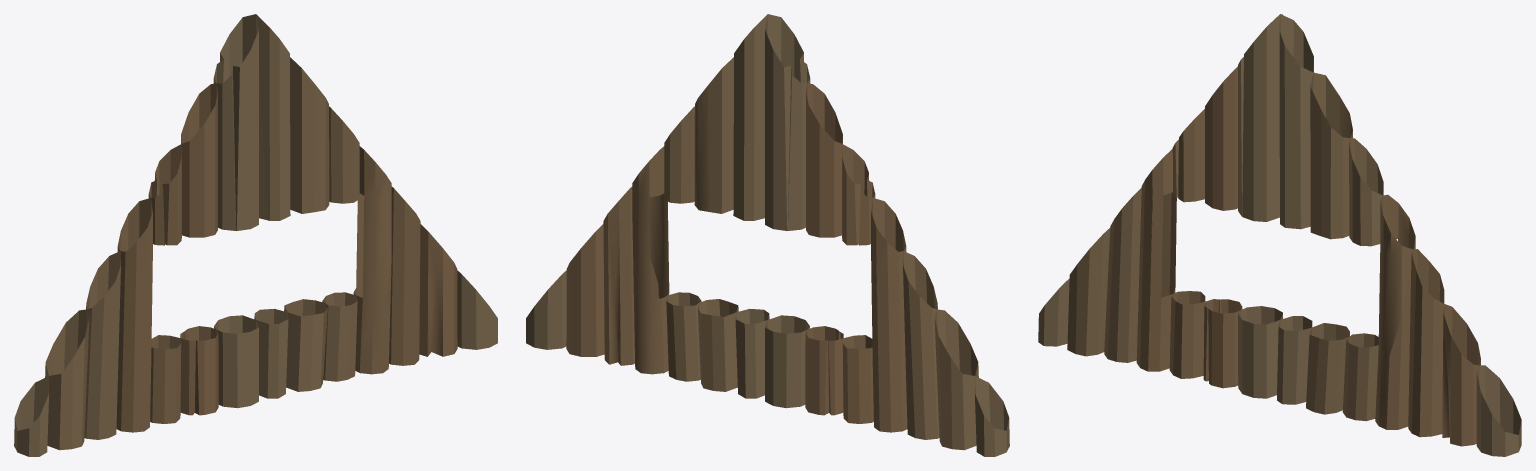
The model's file is rpgpp_ag_roof_end_01_6x5_wall_window_02b.fbx.
3 renders of one model, left to right at view 1: azimuth 30°, elevation 25°; view 2: azimuth 150°, elevation 25°; view 3: azimuth 330°, elevation 25°, orthographic.
Visible parts, largest first — view 1: rpgpp_ag_roof_end_01_6x5_wall_window_02b; view 2: rpgpp_ag_roof_end_01_6x5_wall_window_02b; view 3: rpgpp_ag_roof_end_01_6x5_wall_window_02b.
Boxes of the visible parts, bbox=[...] form: rpgpp_ag_roof_end_01_6x5_wall_window_02b: bbox=[14, 14, 497, 456]; rpgpp_ag_roof_end_01_6x5_wall_window_02b: bbox=[526, 14, 1009, 456]; rpgpp_ag_roof_end_01_6x5_wall_window_02b: bbox=[1038, 14, 1521, 456].
Size of the model in its own units: 6 by 4.57 by 0.4626.
